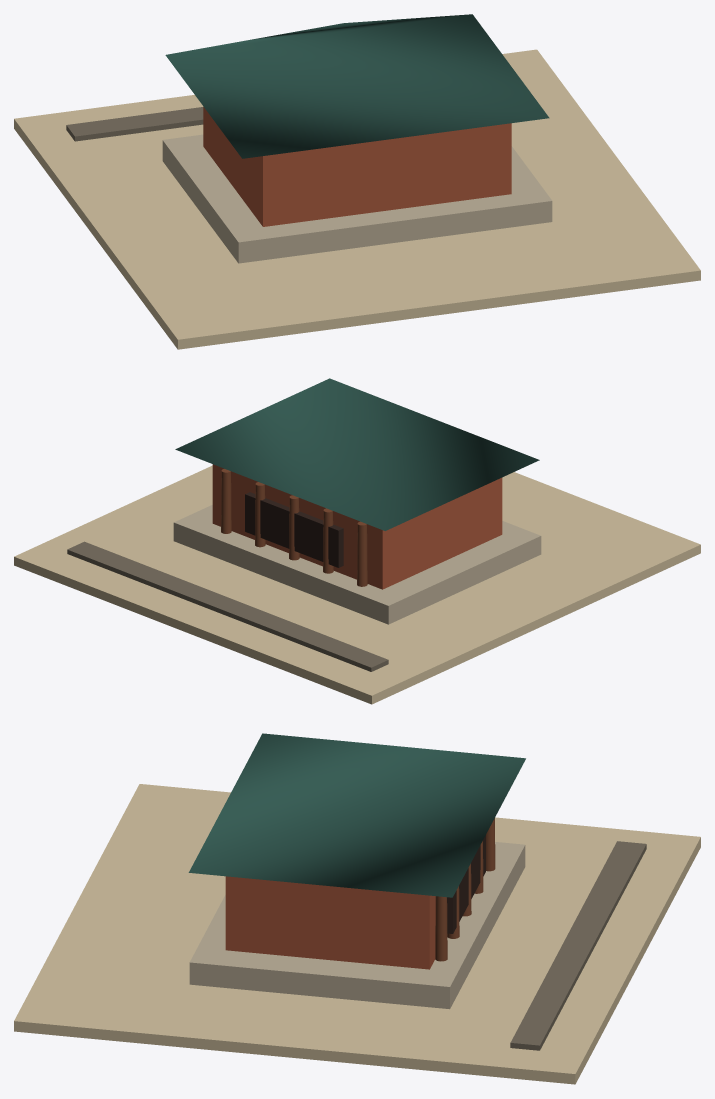
Rendered from model-medium.glb.
3 views of the same model, one above another, from view 1: azimuth 30°, elevation 25°; view 2: azimuth 150°, elevation 25°; view 3: azimuth 270°, elevation 25° (orthographic). The views are drawn at different scales.
Parts seen in each view (by area): view 1: context_site_plinth, sweeping_tiled_roof, main_hall_wall_volume, raised_ceremonial_platform, front_scale_strip; view 2: context_site_plinth, sweeping_tiled_roof, raised_ceremonial_platform, main_hall_wall_volume, front_scale_strip, central_shadow_door, front_column_1, front_column_5; view 3: context_site_plinth, sweeping_tiled_roof, main_hall_wall_volume, raised_ceremonial_platform, front_scale_strip, central_shadow_door, front_column_5.
Boxes of the visible parts, x1,y1,x2,y2 form: context_site_plinth: [14, 49, 700, 349]; sweeping_tiled_roof: [165, 14, 549, 158]; main_hall_wall_volume: [203, 107, 511, 226]; raised_ceremonial_platform: [162, 134, 552, 263]; front_scale_strip: [66, 107, 203, 141]; context_site_plinth: [14, 465, 700, 704]; sweeping_tiled_roof: [175, 378, 539, 530]; raised_ceremonial_platform: [173, 505, 541, 624]; main_hall_wall_volume: [212, 464, 502, 589]; front_scale_strip: [67, 541, 388, 671]; central_shadow_door: [245, 492, 343, 567]; front_column_1: [357, 521, 367, 586]; front_column_5: [221, 469, 231, 533]; context_site_plinth: [14, 784, 700, 1084]; sweeping_tiled_roof: [188, 733, 525, 897]; main_hall_wall_volume: [225, 876, 435, 969]; raised_ceremonial_platform: [189, 842, 525, 1009]; front_scale_strip: [510, 841, 646, 1050]; central_shadow_door: [447, 835, 485, 933]; front_column_5: [435, 896, 447, 961].
Bounding box in the file's own units: 9.55 × 2.62 × 9.55.
